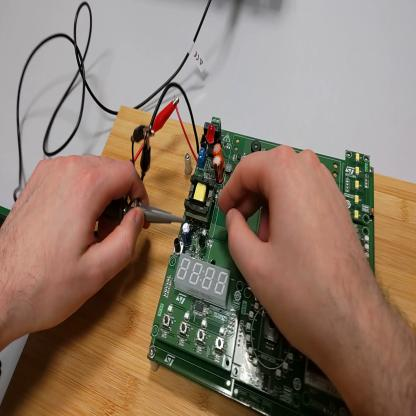hand: (217, 132, 379, 374), (7, 148, 154, 347)
low voltage board: (148, 97, 376, 415)
oscilloscope probe tip: (95, 199, 185, 228)
working area: (2, 106, 416, 415)
